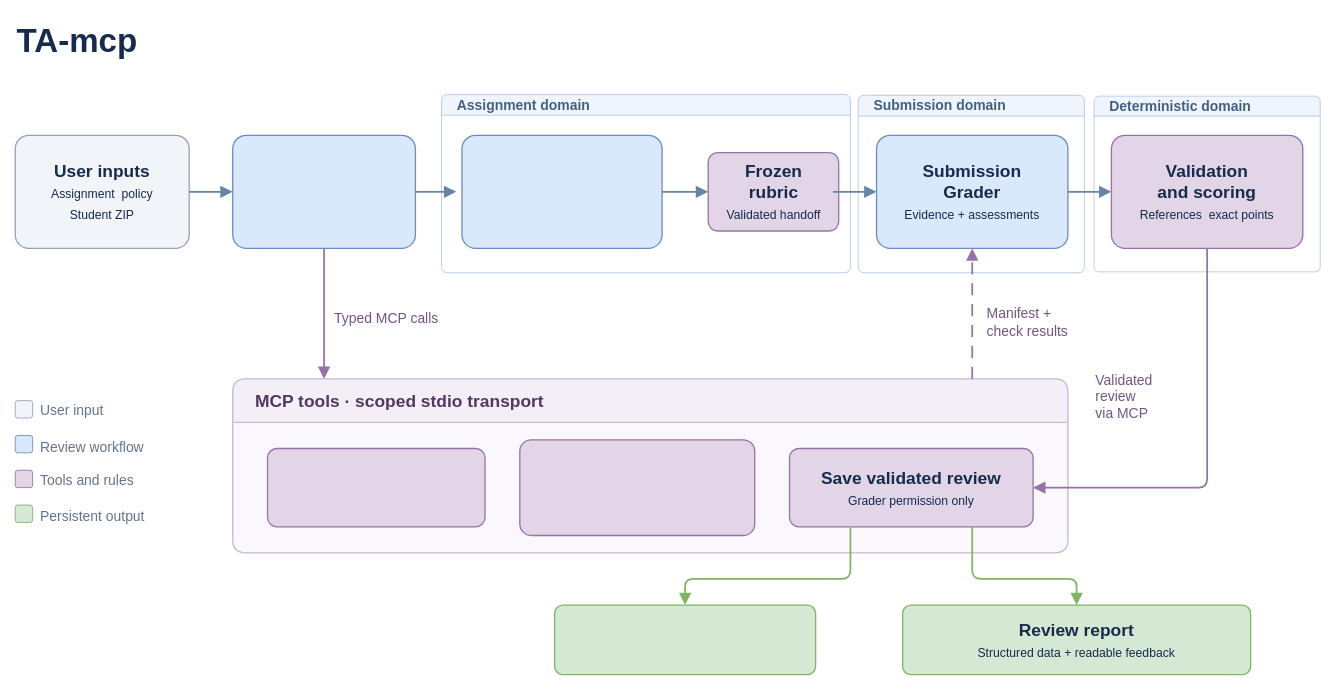
Some shapes in this 1336 by 690 pixel diagram are drawn without their labels. The shapes that lost their labels are listed below. From the top down, each one's centre as x and y in pixels, then its label:
At [324,191]: "Review coordinator Sequence handoff trace".
At [561,191]: "Requirements Analyst Extract source-linked criteria".
At [375,487]: "Inspect archive Manifest + source previews".
At [637,487]: "Run safe checks Python syntax only Runtime: unavailable".
At [685,639]: "Review history Normalized SQLite + audit".
